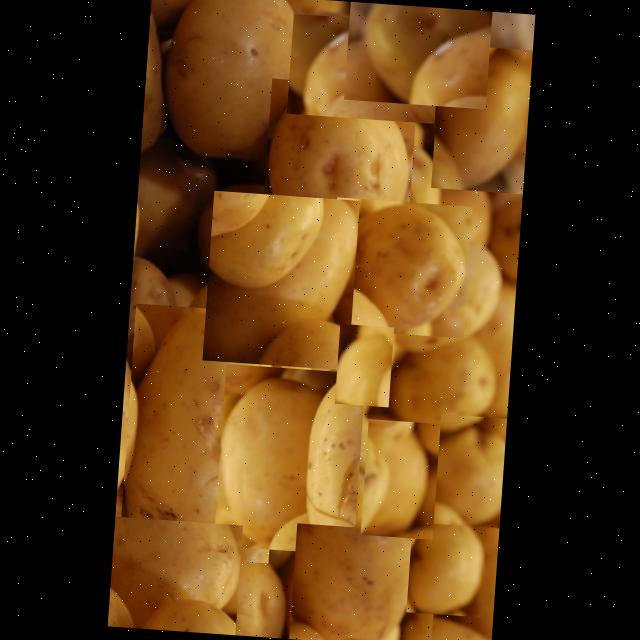Potato: (118, 303, 284, 563), (212, 363, 364, 554), (200, 190, 358, 370), (160, 0, 327, 170), (259, 78, 416, 256), (170, 262, 319, 416), (326, 197, 472, 338), (287, 522, 437, 640), (285, 13, 440, 124), (106, 516, 242, 635), (342, 1, 490, 109), (429, 44, 532, 194), (376, 326, 498, 441), (409, 242, 503, 349), (359, 418, 439, 540), (405, 506, 486, 617), (432, 414, 506, 528), (212, 546, 294, 638), (333, 323, 392, 407)
